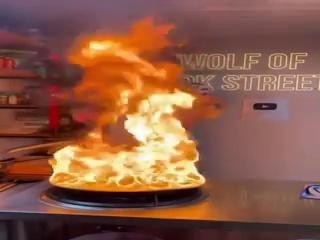Fire: (31, 58, 210, 194)
